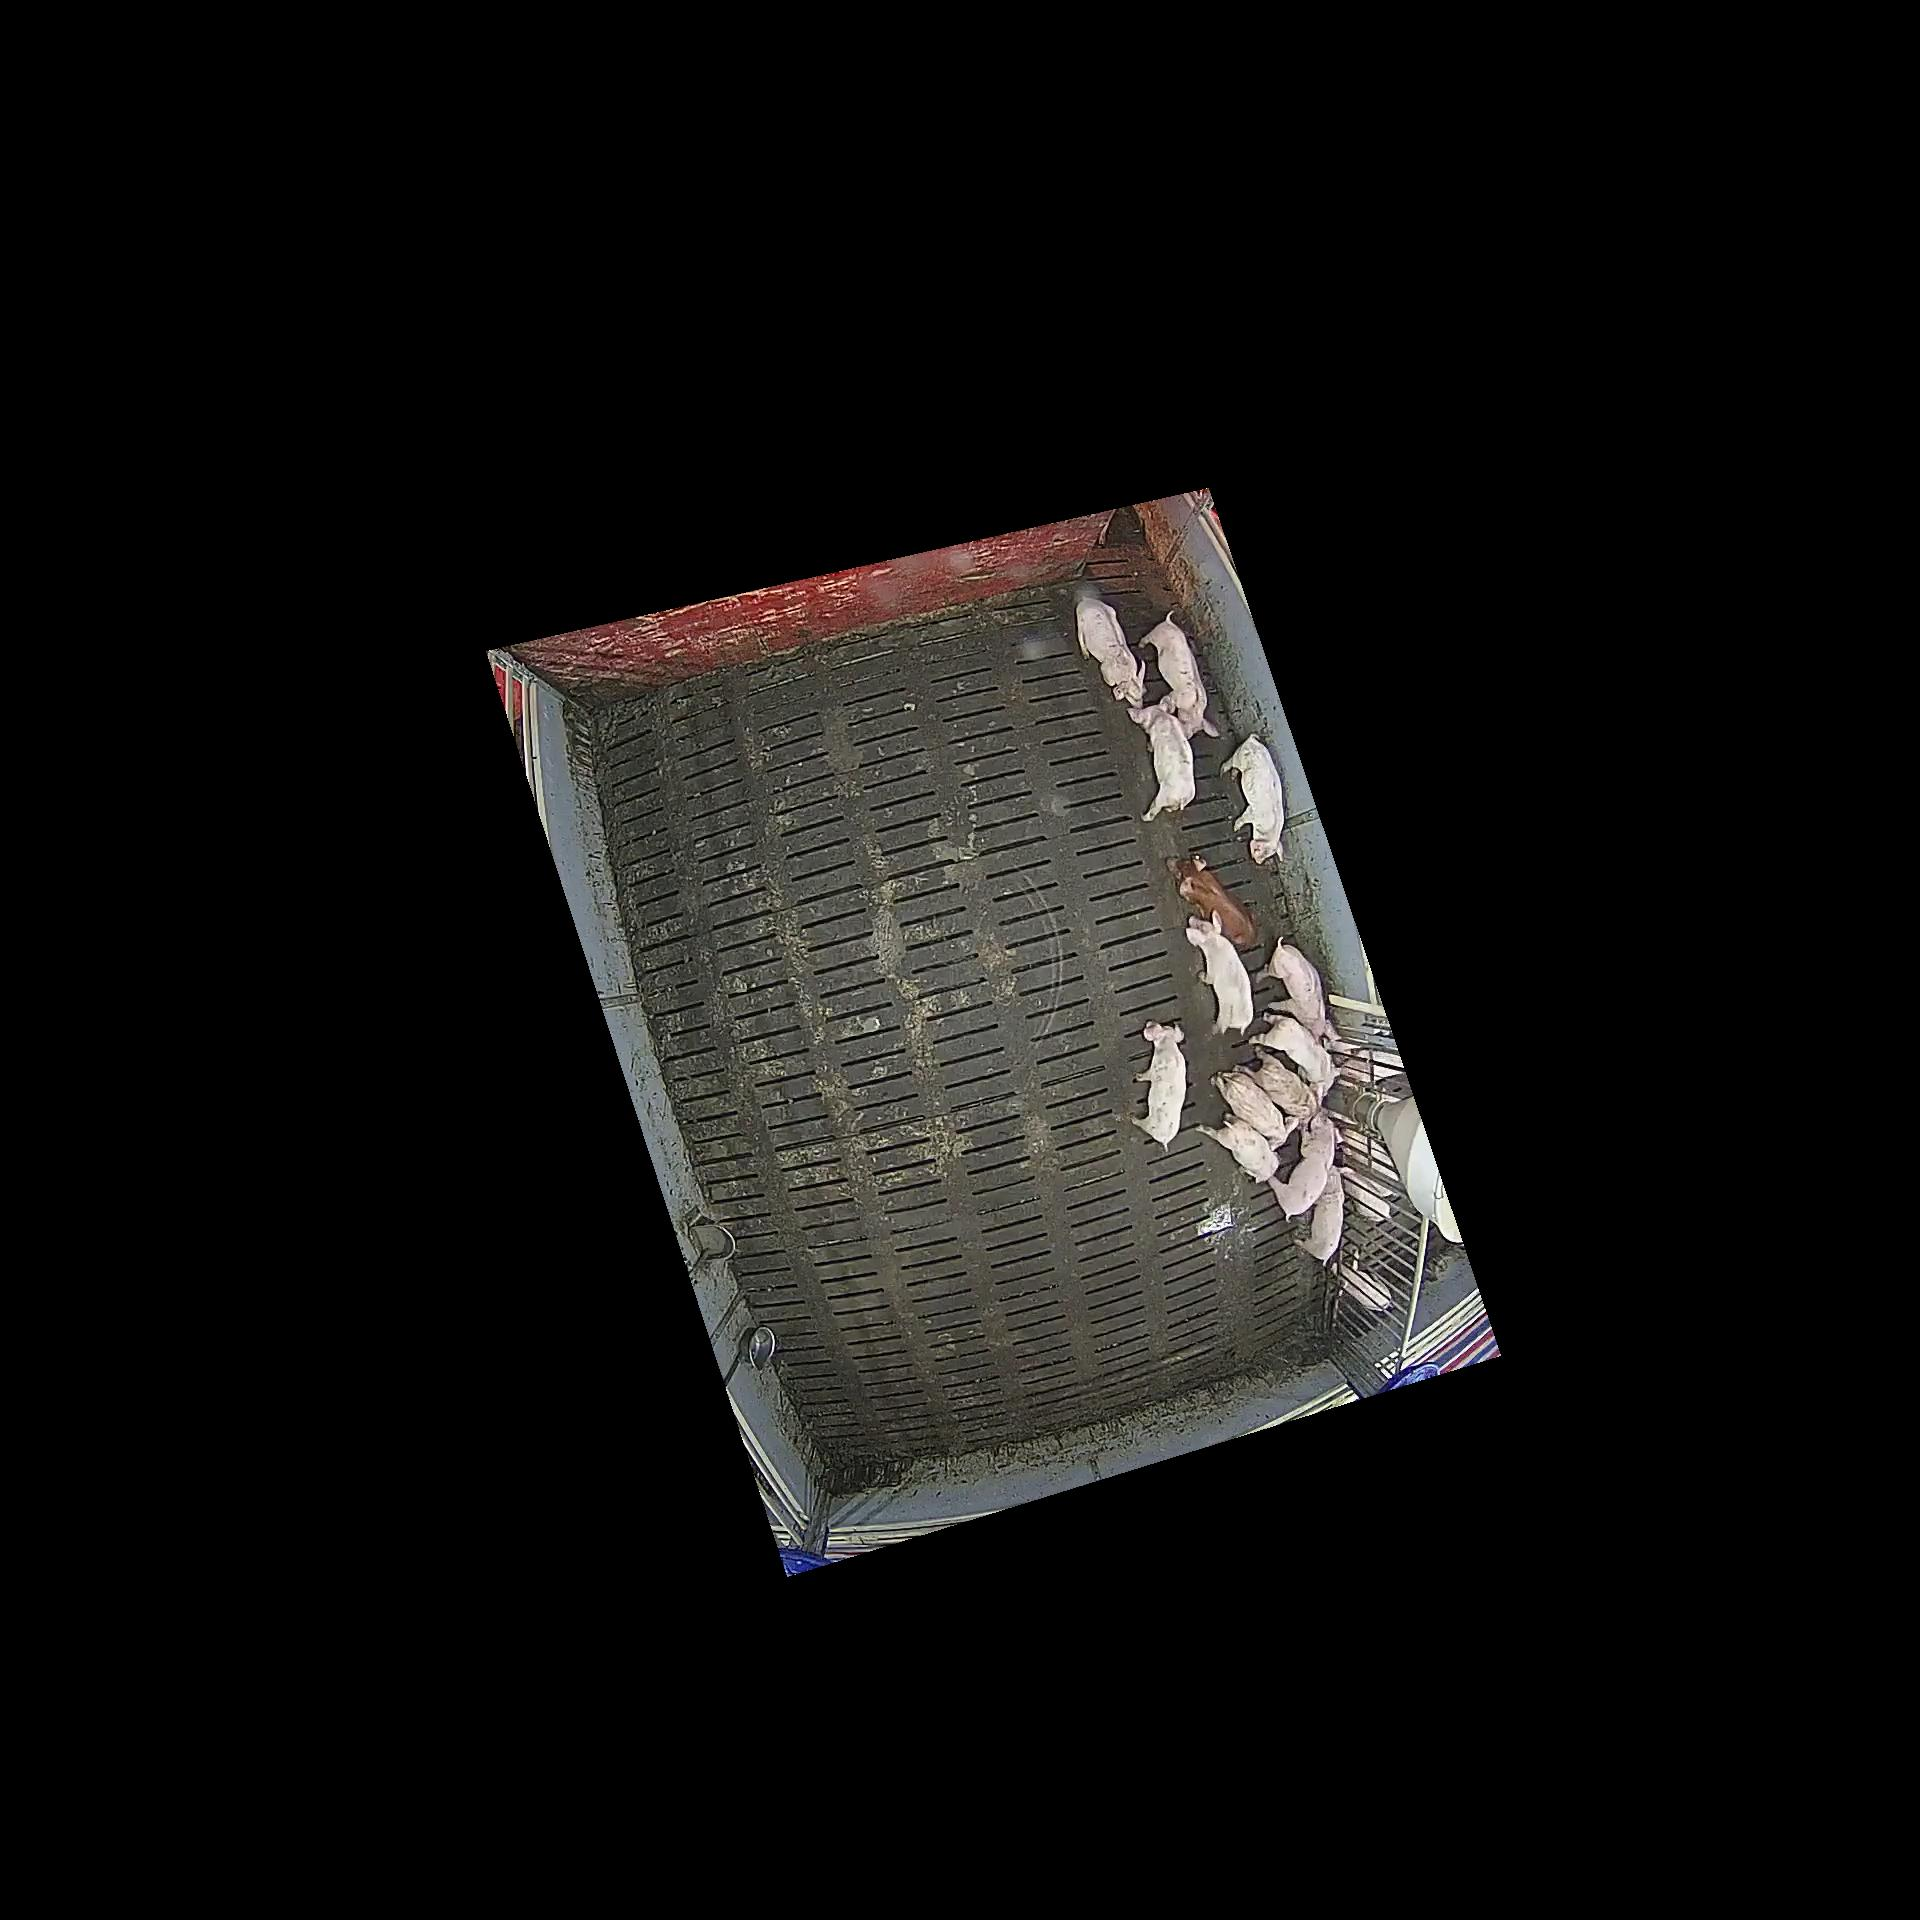pig: (1139, 610, 1220, 738), (1255, 937, 1342, 1043), (1125, 696, 1196, 821), (1220, 735, 1285, 865), (1187, 911, 1254, 1036), (1076, 593, 1146, 710), (1166, 856, 1257, 946), (1268, 1113, 1342, 1224), (1231, 1046, 1326, 1131), (1248, 1011, 1343, 1095), (1131, 1020, 1187, 1153), (1211, 1071, 1299, 1152), (1194, 1113, 1282, 1185), (1294, 1166, 1343, 1266)
